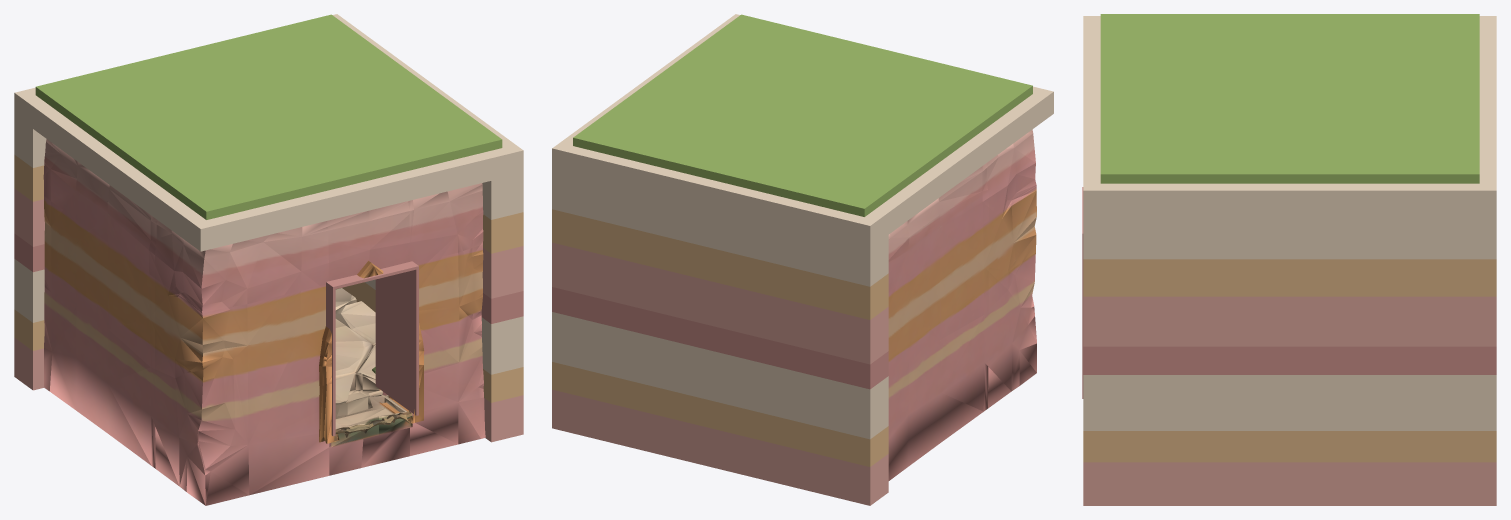
Rendered from atelier_salle.glb.
The picture shows the model from 3 angles, left to right: view 1: azimuth 30°, elevation 25°; view 2: azimuth 150°, elevation 25°; view 3: azimuth 270°, elevation 25°; orthographic projection. The views are drawn at different scales.
Visible parts, largest first — view 1: Toit, Base; view 2: Toit, Base; view 3: Toit, Base.
Boxes of the visible parts, bbox=[...] form: Toit: bbox=[14, 14, 523, 380]; Base: bbox=[14, 253, 523, 505]; Toit: bbox=[552, 14, 1053, 383]; Base: bbox=[552, 253, 1036, 505]; Toit: bbox=[1082, 14, 1496, 368]; Base: bbox=[1082, 311, 1496, 505].
Bounding box in the file's own units: 6 × 5.2 × 6.02.
6 materials, 1 textured.
